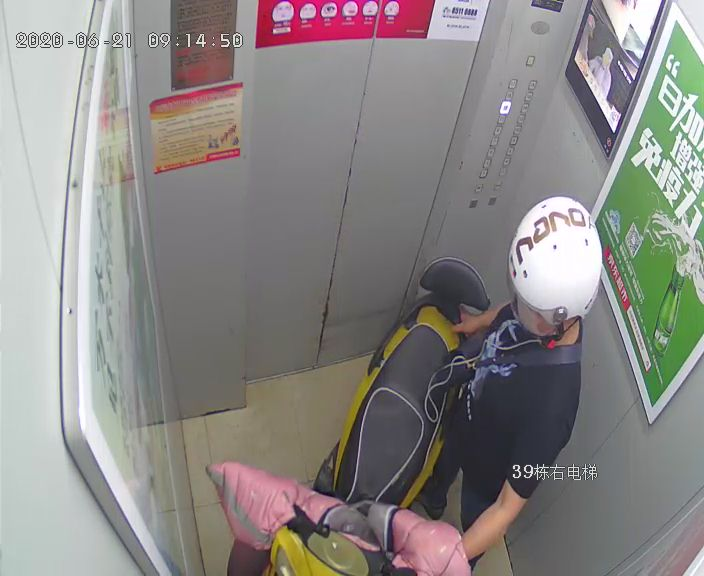Electric-bicycle: (215, 256, 495, 576)
